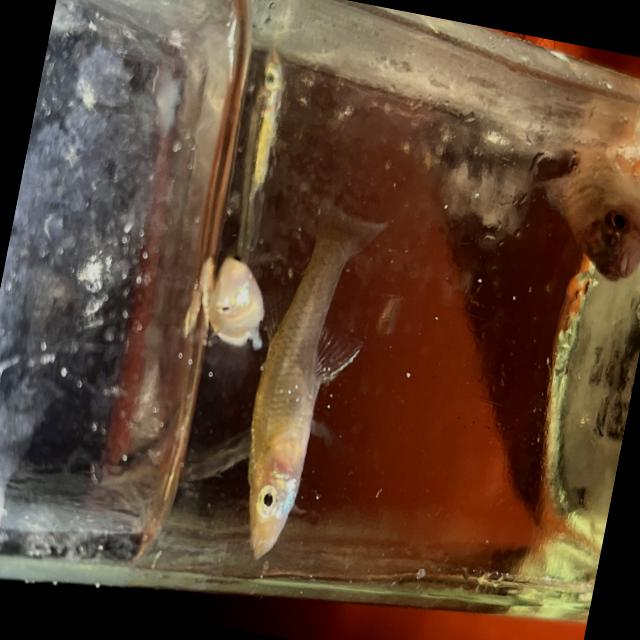Sivrisinek Baligi: (222, 186, 394, 574), (518, 101, 640, 310), (217, 42, 301, 235), (185, 240, 282, 376)
